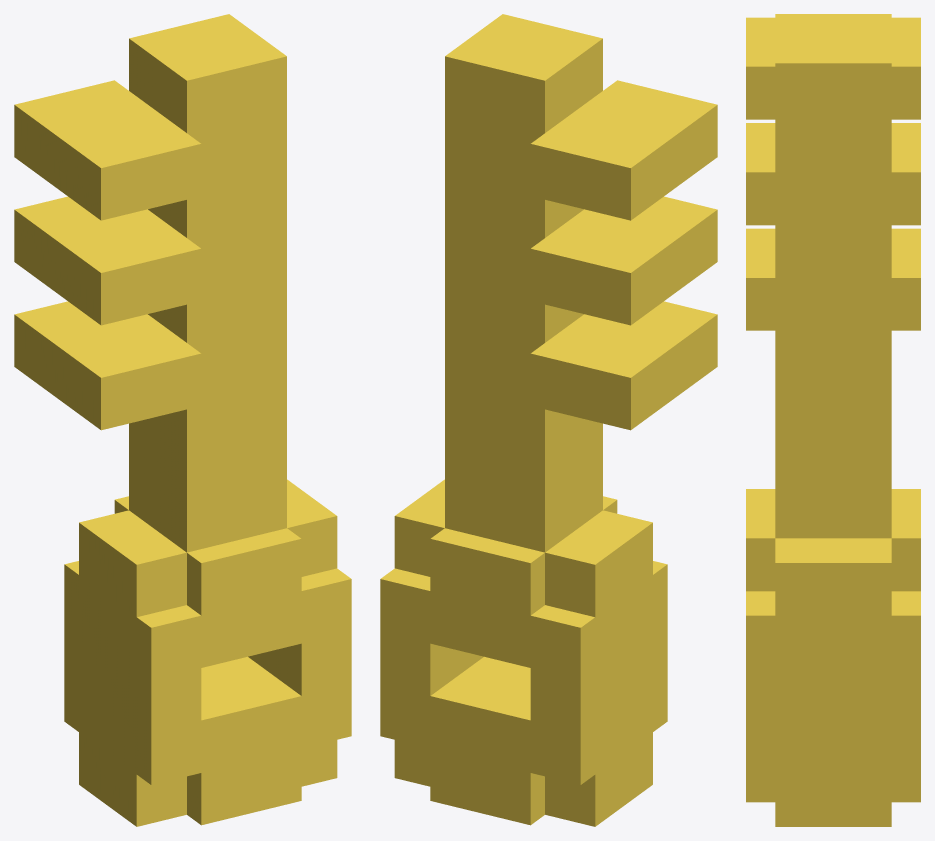
The model's file is key.obj.
3 renders of one model, left to right at view 1: azimuth 30°, elevation 25°; view 2: azimuth 150°, elevation 25°; view 3: azimuth 270°, elevation 25°, orthographic.
Size of the model in its own units: 5 by 14 by 3.
